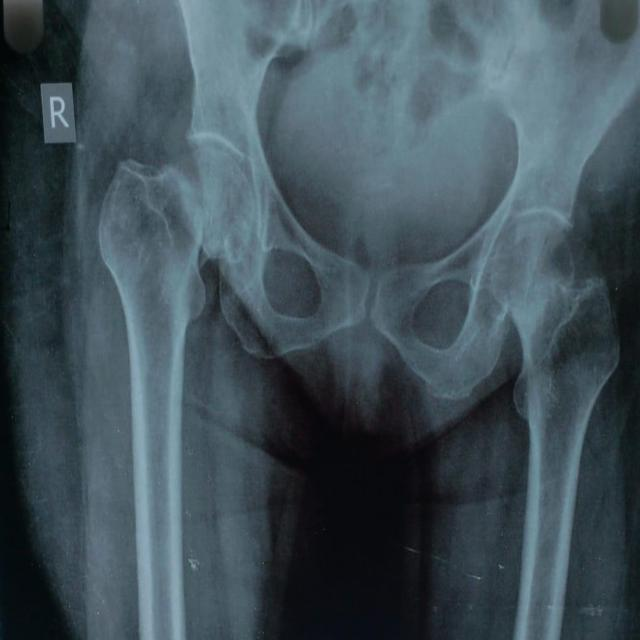left-neck: (511, 275, 620, 516), (489, 222, 575, 312)
right-neck: (99, 159, 206, 406), (193, 147, 255, 263)
